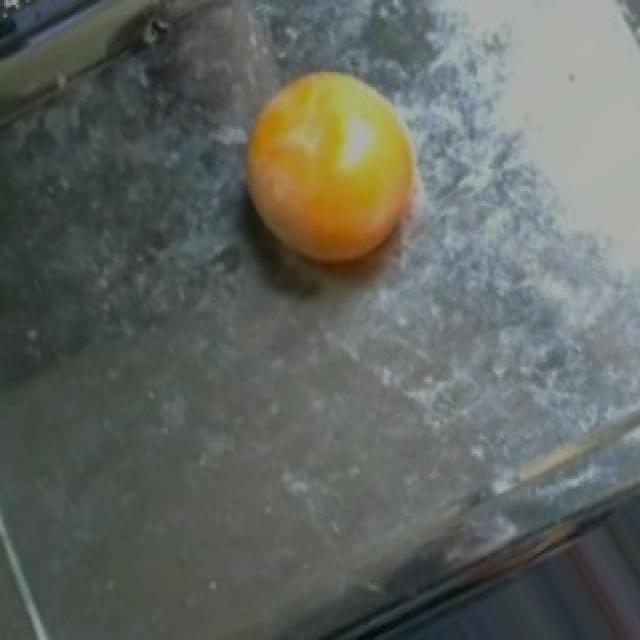Fruit: (216, 50, 446, 288)
